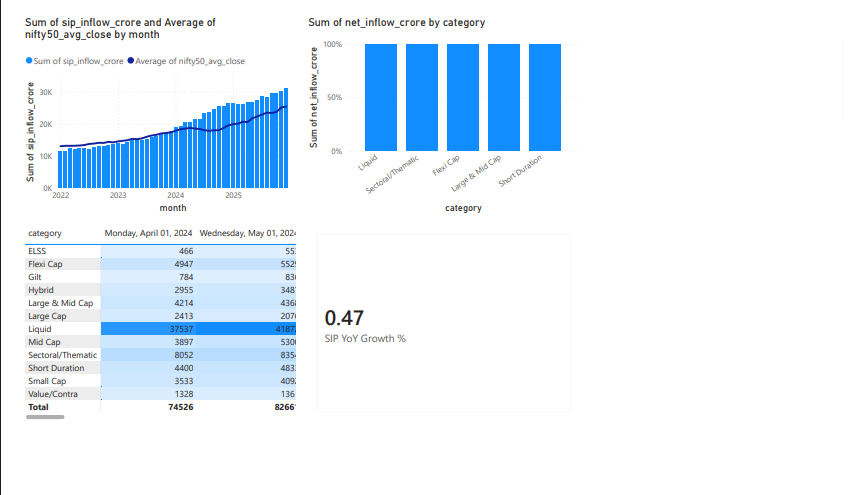

This screenshot's page, from the dashboard's own definition file:
{"tool":"powerbi","page":{"name":"SIP & Market Trends","canvas":[1280,720],"ordinal":3},"visuals":[{"type":"lineStackedColumnComboChart","fields":{"Category":["dim_monthly_sip_inflows.month"],"Y":["Sum(dim_monthly_sip_inflows.sip_inflow_crore)"],"Y2":["Avg(nifty50_monthly.nifty50_avg_close)"]},"box":[10,0,428.3,310],"z":0},{"type":"pivotTable","fields":{"Rows":["dim_category_inflows.category"],"Columns":["dim_category_inflows.month"],"Values":["Sum(dim_category_inflows.net_inflow_crore)"]},"box":[10,320,428,310],"z":1},{"type":"hundredPercentStackedColumnChart","fields":{"Category":["dim_category_inflows.category"],"Y":["Sum(dim_category_inflows.net_inflow_crore)"]},"box":[448,0,428,310],"z":2},{"type":"cardVisual","fields":{"Data":["dim_monthly_sip_inflows.SIP YoY Growth %","dim_monthly_sip_inflows.SIP YoY Growth %","dim_monthly_sip_inflows.SIP YoY Growth %"]},"box":[448,320,428,310],"z":3}]}

Visuals, with their boxes in screenshot pixels (x1, y1, x2, y2), scaled from the page's 1280x720 canvas onto the 858x495 screenshot:
lineStackedColumnComboChart - dim_monthly_sip_inflows.month x Sum(dim_monthly_sip_inflows.sip_inflow_crore): x1=7, y1=0, x2=294, y2=213
pivotTable - dim_category_inflows.category x dim_category_inflows.month: x1=7, y1=220, x2=294, y2=433
hundredPercentStackedColumnChart - dim_category_inflows.category x Sum(dim_category_inflows.net_inflow_crore): x1=300, y1=0, x2=587, y2=213
cardVisual - dim_monthly_sip_inflows.SIP YoY Growth % x dim_monthly_sip_inflows.SIP YoY Growth %: x1=300, y1=220, x2=587, y2=433
